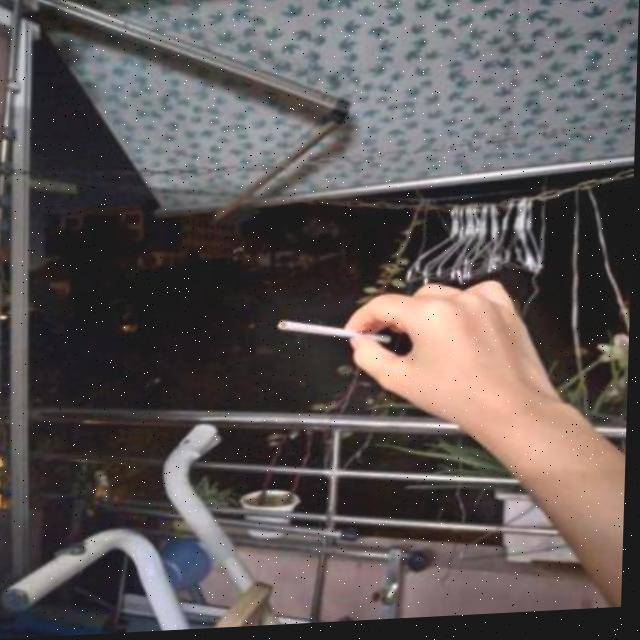cigarette: (279, 318, 395, 352)
